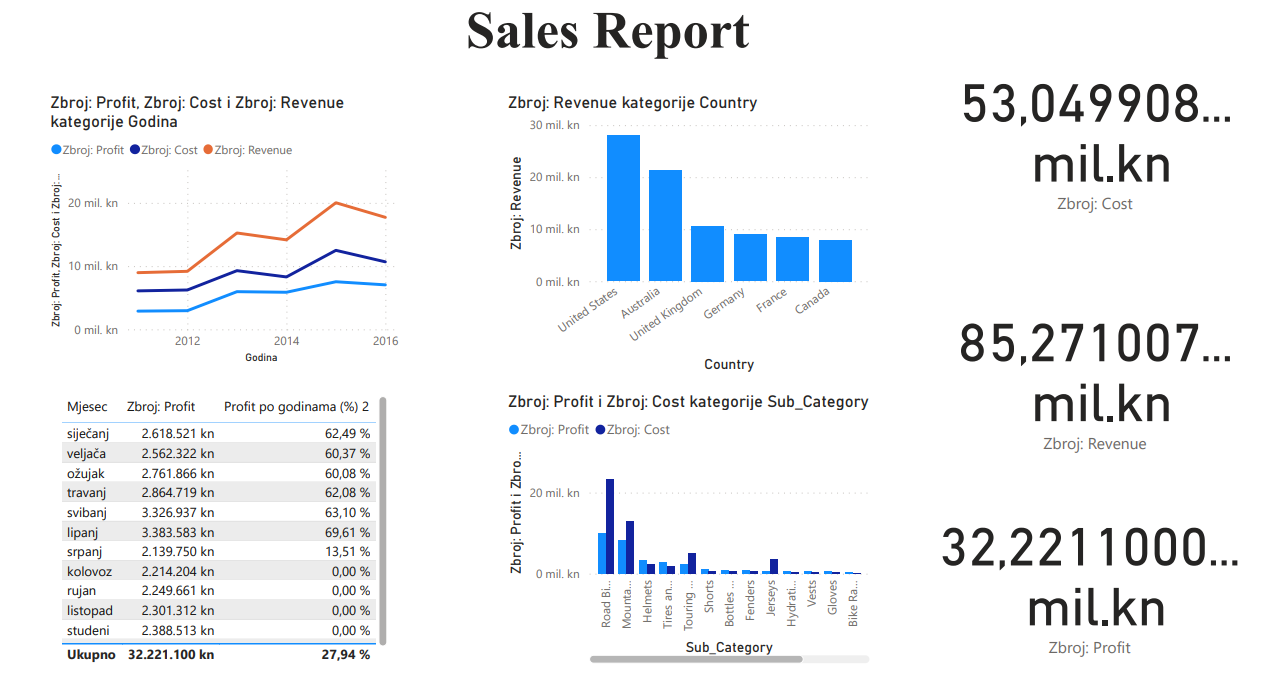

The page's visual inventory and layout, read from the dashboard file:
{"tool":"powerbi","page":{"name":"Stranica 2","canvas":[1280,720],"ordinal":1},"visuals":[{"type":"lineChart","fields":{"Y":["Sum(Sales.Profit)","Sum(Sales.Cost)","Sum(Sales.Revenue)"],"Category":["Sales.Date.Varijacija.Hijerarhija datuma.Godina"]},"box":[52.9,100,364.3,280],"z":0},{"type":"tableEx","fields":{"Values":["Sales.Date.Varijacija.Hijerarhija datuma.Mjesec","Sum(Sales.Profit)","Sales.Profit po godinama (%) 2"]},"box":[64.1,403.9,341.9,282.1],"z":1000},{"type":"clusteredColumnChart","fields":{"Category":["Sales.Country"],"Y":["Sum(Sales.Revenue)"]},"box":[519.3,100.4,378.2,288.5],"z":2000},{"type":"textbox","box":[475.6,0,323.8,76.8],"z":3000},{"type":"card","fields":{"Values":["Sum(Sales.Cost)"]},"box":[963.7,0,316.3,288.5],"z":4000},{"type":"card","fields":{"Values":["Sum(Sales.Revenue)"]},"box":[963.7,247.9,316.3,279.9],"z":5000},{"type":"card","fields":{"Values":["Sum(Sales.Profit)"]},"box":[953.1,472.3,326.9,247.9],"z":6000},{"type":"lineClusteredColumnComboChart","fields":{"Category":["Sales.Sub_Category"],"Y":["Sum(Sales.Profit)","Sum(Sales.Cost)"]},"box":[519,404,378,282],"z":7000}]}

Visuals, with their boxes on the page's 1280x720 design canvas (x1, y1, x2, y2). These are canvas units, not pixel positions in the 1265x682 screenshot, which may show the page scaled, cropped or inside an application window:
lineChart - Sum(Sales.Profit) x Sum(Sales.Cost): (left=53, top=100, right=417, bottom=380)
tableEx - Sales.Date.Varijacija.Hijerarhija datuma.Mjesec x Sum(Sales.Profit): (left=64, top=404, right=406, bottom=686)
clusteredColumnChart - Sales.Country x Sum(Sales.Revenue): (left=519, top=100, right=898, bottom=389)
textbox: (left=476, top=0, right=799, bottom=77)
card - Sum(Sales.Cost): (left=964, top=0, right=1280, bottom=288)
card - Sum(Sales.Revenue): (left=964, top=248, right=1280, bottom=528)
card - Sum(Sales.Profit): (left=953, top=472, right=1280, bottom=720)
lineClusteredColumnComboChart - Sales.Sub_Category x Sum(Sales.Profit): (left=519, top=404, right=897, bottom=686)
